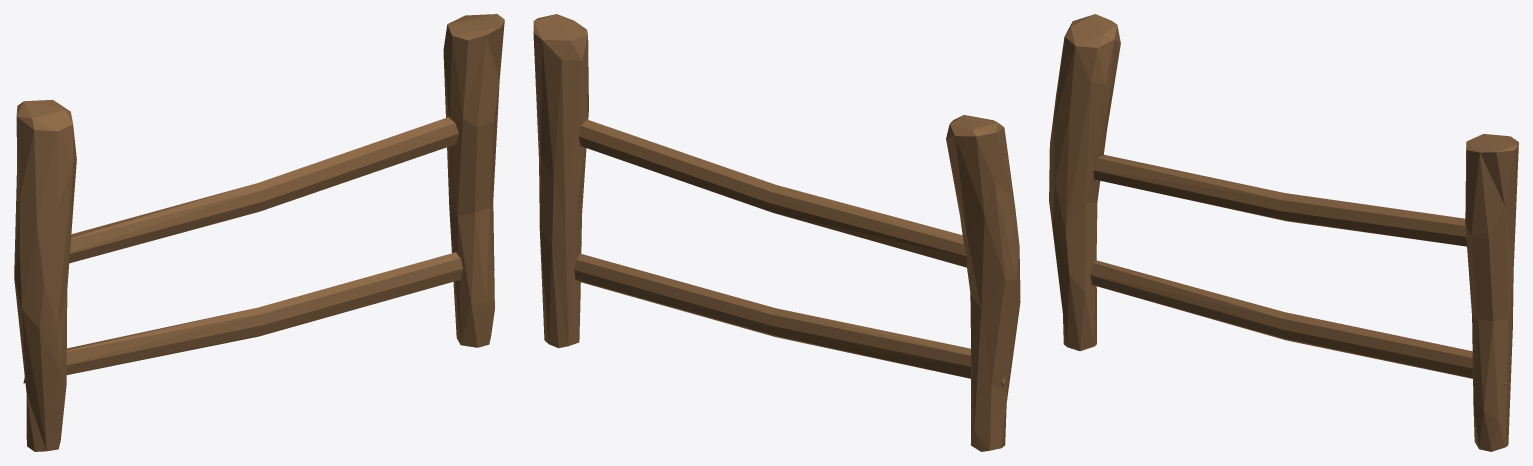
The model's file is Fence_01.fbx.
3 renders of one model, left to right at view 1: azimuth 30°, elevation 25°; view 2: azimuth 150°, elevation 25°; view 3: azimuth 330°, elevation 25°, orthographic. The views are drawn at different scales.
Parts seen in each view (by area): view 1: Fence_01; view 2: Fence_01; view 3: Fence_01.
Boxes of the visible parts, <box> form: Fence_01: <box>14,14,504,451</box>; Fence_01: <box>533,14,1020,451</box>; Fence_01: <box>1049,14,1518,451</box>.
Size of the model in its own units: 158 by 103 by 20.25.
